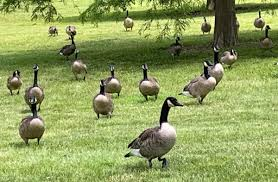goose: (120, 96, 185, 172), (179, 60, 217, 105), (17, 95, 47, 150), (198, 41, 225, 87), (136, 62, 162, 101), (90, 79, 114, 121), (24, 63, 45, 111), (70, 49, 90, 82), (103, 65, 122, 97), (57, 31, 77, 61), (257, 24, 275, 53), (5, 68, 23, 97), (218, 46, 239, 69), (120, 5, 137, 33), (163, 35, 184, 57), (252, 8, 266, 31), (200, 16, 212, 38)
